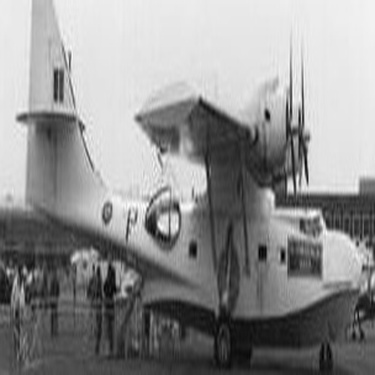airplane: (1, 121, 372, 372)
